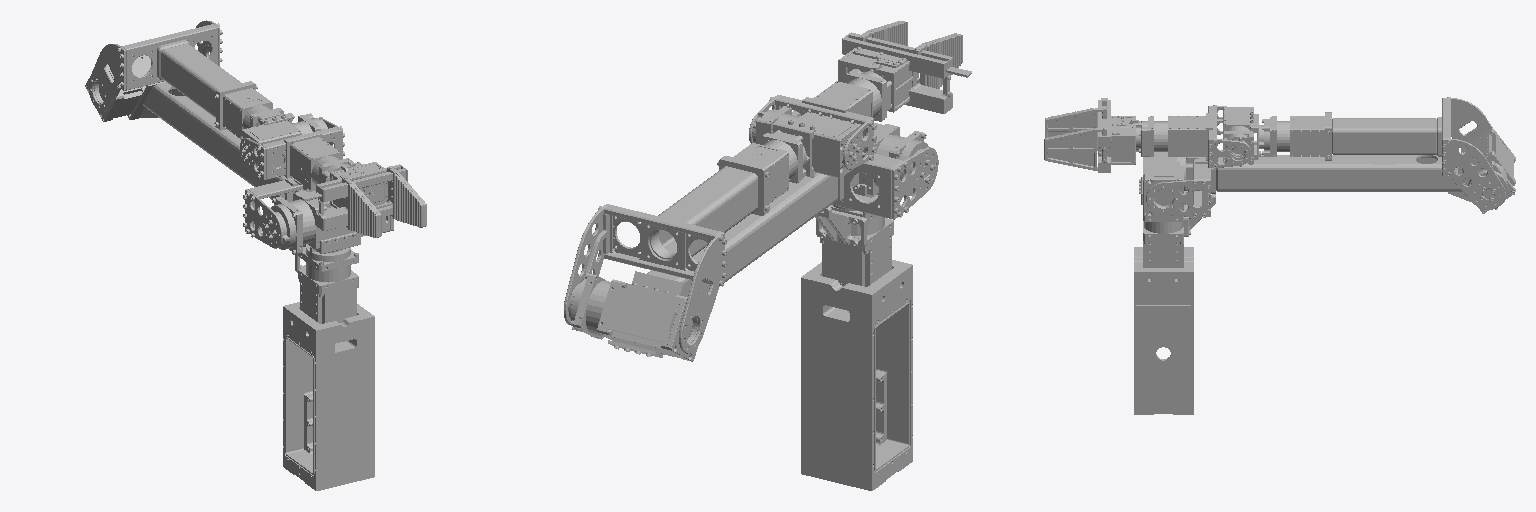
The robot description file, URDF, robot "lnt_urdf_description":
<robot
  name="lnt_urdf_description">
  <link
    name="base_link">
    <inertial>
      <origin
        xyz="0.040643979573491 0.0406419965644875 0.148760063652187"
        rpy="0 0 0" />
      <mass
        value="0.854155845147982" />
      <inertia
        ixx="0.0072097253379719"
        ixy="3.91661557279195E-07"
        ixz="8.32333709729228E-05"
        iyy="0.00710852611283595"
        iyz="-7.71172614028263E-05"
        izz="0.00103326398530037" />
    </inertial>
    <visual>
      <origin
        xyz="0 0 0"
        rpy="0 0 0" />
      <geometry>
        <mesh
          filename="package://lnt_urdf_description/meshes/base_link.STL" />
      </geometry>
      <material
        name="">
        <color
          rgba="0.752941176470588 0.752941176470588 0.752941176470588 1" />
      </material>
    </visual>
    <collision>
      <origin
        xyz="0 0 0"
        rpy="0 0 0" />
      <geometry>
        <mesh
          filename="package://lnt_urdf_description/meshes/base_link.STL" />
      </geometry>
    </collision>
  </link>
  <link
    name="link_1">
    <inertial>
      <origin
        xyz="4.90057691613643E-05 -0.00293063013815038 0.0290827578020298"
        rpy="0 0 0" />
      <mass
        value="0.377267733129056" />
      <inertia
        ixx="0.000641277937131854"
        ixy="-1.1478524551702E-07"
        ixz="5.79330746017939E-07"
        iyy="0.00019199703768203"
        iyz="6.07837956690088E-06"
        izz="0.000630748841506656" />
    </inertial>
    <visual>
      <origin
        xyz="0 0 0"
        rpy="0 0 0" />
      <geometry>
        <mesh
          filename="package://lnt_urdf_description/meshes/link_1.STL" />
      </geometry>
      <material
        name="">
        <color
          rgba="0.752941176470588 0.752941176470588 0.752941176470588 1" />
      </material>
    </visual>
    <collision>
      <origin
        xyz="0 0 0"
        rpy="0 0 0" />
      <geometry>
        <mesh
          filename="package://lnt_urdf_description/meshes/link_1.STL" />
      </geometry>
    </collision>
  </link>
  <joint
    name="joint1"
    type="revolute">
    <origin
      xyz="0.039875 0.040125 0.3045"
      rpy="-3.0787E-17 1.1753E-16 1.5708" />
    <parent
      link="base_link" />
    <child
      link="link_1" />
    <axis
      xyz="0 0 1" />
    <limit
      lower="-3.14"
      upper="3.14"
      effort="0"
      velocity="0" />
  </joint>
  <link
    name="link_2">
    <inertial>
      <origin
        xyz="0.311175688435593 -0.000520999176909009 0.00364100635169962"
        rpy="0 0 0" />
      <mass
        value="0.555909264188641" />
      <inertia
        ixx="0.000771033197074073"
        ixy="-2.35747155363053E-05"
        ixz="3.1553359897087E-05"
        iyy="0.0144365415438456"
        iyz="-1.35189943952058E-06"
        izz="0.0139570184140524" />
    </inertial>
    <visual>
      <origin
        xyz="0 0 0"
        rpy="0 0 0" />
      <geometry>
        <mesh
          filename="package://lnt_urdf_description/meshes/link_2.STL" />
      </geometry>
      <material
        name="">
        <color
          rgba="0.752941176470588 0.752941176470588 0.752941176470588 1" />
      </material>
    </visual>
    <collision>
      <origin
        xyz="0 0 0"
        rpy="0 0 0" />
      <geometry>
        <mesh
          filename="package://lnt_urdf_description/meshes/link_2.STL" />
      </geometry>
    </collision>
  </link>
  <joint
    name="joint2"
    type="revolute">
    <origin
      xyz="0 0 0.0305"
      rpy="-1.5708 0 4.3305E-16" />
    <parent
      link="link_1" />
    <child
      link="link_2" />
    <axis
      xyz="0 0 1" />
    <limit
      lower="-3.14"
      upper="0"
      effort="0"
      velocity="0" />
  </joint>
  <link
    name="link_3">
    <inertial>
      <origin
        xyz="-0.169474131534032 -0.0500512457629598 -0.00170509113305032"
        rpy="0 0 0" />
      <mass
        value="0.292706779888183" />
      <inertia
        ixx="0.000332555030455513"
        ixy="-0.000161514105326486"
        ixz="8.37410047316708E-05"
        iyy="0.00280358448042595"
        iyz="2.44320464003209E-05"
        izz="0.00267450897995474" />
    </inertial>
    <visual>
      <origin
        xyz="0 0 0"
        rpy="0 0 0" />
      <geometry>
        <mesh
          filename="package://lnt_urdf_description/meshes/link_3.STL" />
      </geometry>
      <material
        name="">
        <color
          rgba="0.752941176470588 0.752941176470588 0.752941176470588 1" />
      </material>
    </visual>
    <collision>
      <origin
        xyz="0 0 0"
        rpy="0 0 0" />
      <geometry>
        <mesh
          filename="package://lnt_urdf_description/meshes/link_3.STL" />
      </geometry>
    </collision>
  </link>
  <joint
    name="joint3"
    type="revolute">
    <origin
      xyz="0.43132 -0.0012844 0"
      rpy="-2.3411E-15 -4.0406E-15 1.0617E-29" />
    <parent
      link="link_2" />
    <child
      link="link_3" />
    <axis
      xyz="0 0 1" />
    <limit
      lower="0"
      upper="3.14159"
      effort="0"
      velocity="0" />
  </joint>
  <link
    name="link_4">
    <inertial>
      <origin
        xyz="-7.39902665310987E-05 0.00465167357643108 0.0389281580850401"
        rpy="0 0 0" />
      <mass
        value="0.159649260916991" />
      <inertia
        ixx="0.000133249401429536"
        ixy="-4.75917767767368E-08"
        ixz="-3.08921595105016E-07"
        iyy="5.32131244910627E-05"
        iyz="-1.80050439489608E-06"
        izz="0.000127949156669396" />
    </inertial>
    <visual>
      <origin
        xyz="0 0 0"
        rpy="0 0 0" />
      <geometry>
        <mesh
          filename="package://lnt_urdf_description/meshes/link_4.STL" />
      </geometry>
      <material
        name="">
        <color
          rgba="0.752941176470588 0.752941176470588 0.752941176470588 1" />
      </material>
    </visual>
    <collision>
      <origin
        xyz="0 0 0"
        rpy="0 0 0" />
      <geometry>
        <mesh
          filename="package://lnt_urdf_description/meshes/link_4.STL" />
      </geometry>
    </collision>
  </link>
  <joint
    name="joint4"
    type="revolute">
    <origin
      xyz="-0.2911 -0.05351 0"
      rpy="1.5708 2.6742E-15 -1.5708" />
    <parent
      link="link_3" />
    <child
      link="link_4" />
    <axis
      xyz="0 0 -1" />
    <limit
      lower="-2.09"
      upper="2.09"
      effort="0"
      velocity="0" />
  </joint>
  <link
    name="link_5">
    <inertial>
      <origin
        xyz="-0.0701915459000638 -0.00833031698142439 -0.00103030017205773"
        rpy="0 0 0" />
      <mass
        value="0.215222730814982" />
      <inertia
        ixx="0.000198557406368773"
        ixy="-4.6954389784777E-07"
        ixz="1.75539877526658E-05"
        iyy="0.000280999987740404"
        iyz="1.94581019886887E-06"
        izz="0.000307113755598205" />
    </inertial>
    <visual>
      <origin
        xyz="0 0 0"
        rpy="0 0 0" />
      <geometry>
        <mesh
          filename="package://lnt_urdf_description/meshes/link_5.STL" />
      </geometry>
      <material
        name="">
        <color
          rgba="0.752941176470588 0.752941176470588 0.752941176470588 1" />
      </material>
    </visual>
    <collision>
      <origin
        xyz="0 0 0"
        rpy="0 0 0" />
      <geometry>
        <mesh
          filename="package://lnt_urdf_description/meshes/link_5.STL" />
      </geometry>
    </collision>
  </link>
  <joint
    name="joint5"
    type="revolute">
    <origin
      xyz="0 0 0.041"
      rpy="1.5708 1.5708 0" />
    <parent
      link="link_4" />
    <child
      link="link_5" />
    <axis
      xyz="0 0 1" />
    <limit
      lower="-1.57"
      upper="1.57"
      effort="0"
      velocity="0" />
  </joint>
  <link
    name="link_6">
    <inertial>
      <origin
        xyz="-8.5916E-05 0.0062618 0.040557"
        rpy="0 0 0" />
      <mass
        value="0.1106" />
      <inertia
        ixx="9.9894E-05"
        ixy="-7.5261E-08"
        ixz="-1.3381E-07"
        iyy="4.9526E-05"
        iyz="6.8097E-06"
        izz="9.7012E-05" />
    </inertial>
    <visual>
      <origin
        xyz="0 0 0"
        rpy="0 0 0" />
      <geometry>
        <mesh
          filename="package://lnt_urdf_description/meshes/link_6.STL" />
      </geometry>
      <material
        name="">
        <color
          rgba="0.75294 0.75294 0.75294 1" />
      </material>
    </visual>
    <collision>
      <origin
        xyz="0 0 0"
        rpy="0 0 0" />
      <geometry>
        <mesh
          filename="package://lnt_urdf_description/meshes/link_6.STL" />
      </geometry>
    </collision>
  </link>
  <joint
    name="joint6"
    type="revolute">
    <origin
      xyz="-0.122 0 0"
      rpy="1.5708 -1.1102E-16 -1.5708" />
    <parent
      link="link_5" />
    <child
      link="link_6" />
    <axis
      xyz="0 0 -1" />
    <limit
      lower="-3.14"
      upper="3.14"
      effort="0"
      velocity="0" />
  </joint>
  <link
    name="left_grip_link">
    <inertial>
      <origin
        xyz="0.04463 -0.0018364 0.0066327"
        rpy="0 0 0" />
      <mass
        value="0.018543" />
      <inertia
        ixx="6.2622E-06"
        ixy="1.1538E-06"
        ixz="-1.5186E-06"
        iyy="1.2434E-05"
        iyz="6.7138E-07"
        izz="1.5288E-05" />
    </inertial>
    <visual>
      <origin
        xyz="0 0 0"
        rpy="0 0 0" />
      <geometry>
        <mesh
          filename="package://lnt_urdf_description/meshes/left_grip_link.STL" />
      </geometry>
      <material
        name="">
        <color
          rgba="0.75294 0.75294 0.75294 1" />
      </material>
    </visual>
    <collision>
      <origin
        xyz="0 0 0"
        rpy="0 0 0" />
      <geometry>
        <mesh
          filename="package://lnt_urdf_description/meshes/left_grip_link.STL" />
      </geometry>
    </collision>
  </link>
  <joint
    name="left_grip_joint"
    type="prismatic">
    <origin
      xyz="-0.00038798 -0.0193 0.1357"
      rpy="1.5708 1.5708 0" />
    <parent
      link="link_6" />
    <child
      link="left_grip_link" />
    <axis
      xyz="0 0 1" />
    <limit
      lower="0"
      upper="0"
      effort="0"
      velocity="0" />
  </joint>
  <link
    name="right_grip_link">
    <inertial>
      <origin
        xyz="0.00183644059394827 0.044630390849177 0.00663270264104446"
        rpy="0 0 0" />
      <mass
        value="0.0185428410821074" />
      <inertia
        ixx="1.24340447117038E-05"
        ixy="-1.15375995016126E-06"
        ixz="-6.7137649268847E-07"
        iyy="6.26215242543191E-06"
        iyz="-1.51856815875631E-06"
        izz="1.52881217067195E-05" />
    </inertial>
    <visual>
      <origin
        xyz="0 0 0"
        rpy="0 0 0" />
      <geometry>
        <mesh
          filename="package://lnt_urdf_description/meshes/right_grip_link.STL" />
      </geometry>
      <material
        name="">
        <color
          rgba="0.752941176470588 0.752941176470588 0.752941176470588 1" />
      </material>
    </visual>
    <collision>
      <origin
        xyz="0 0 0"
        rpy="0 0 0" />
      <geometry>
        <mesh
          filename="package://lnt_urdf_description/meshes/right_grip_link.STL" />
      </geometry>
    </collision>
  </link>
  <joint
    name="right_grip_joint"
    type="prismatic">
    <origin
      xyz="0.00038798 0.0423 0.1358"
      rpy="-1.5708 1.1403E-16 -3.1416" />
    <parent
      link="link_6" />
    <child
      link="right_grip_link" />
    <axis
      xyz="0 0 -1" />
    <limit
      lower="0"
      upper="0"
      effort="0"
      velocity="0" />
  </joint>
</robot>

--- What the picture shows (computed from the rendered views, not written in the file) ---
The picture shows the robot from 3 angles, left to right: view 1: azimuth 30°, elevation 25°; view 2: azimuth 150°, elevation 25°; view 3: azimuth 270°, elevation 25°; orthographic projection.
Model lnt_urdf_description with 9 links and 8 joints (6 revolute, 2 prismatic), rooted at base_link, posed every joint at zero.
Visible links, largest first — view 1: base_link, link_3, link_2, link_5, link_1, link_6, link_4, left_grip_link, right_grip_link; view 2: base_link, link_2, link_3, link_6, link_5, link_4, link_1, left_grip_link, right_grip_link; view 3: link_2, base_link, link_3, link_5, link_6, right_grip_link, link_1, link_4, left_grip_link.
Boxes of the visible links, x1=… form: base_link: x1=283, y1=244, x2=374, y2=490; link_3: x1=89, y1=20, x2=283, y2=138; link_2: x1=85, y1=55, x2=363, y2=248; link_5: x1=240, y1=119, x2=355, y2=192; link_1: x1=271, y1=191, x2=393, y2=254; link_6: x1=316, y1=162, x2=407, y2=230; link_4: x1=241, y1=113, x2=329, y2=170; left_grip_link: x1=300, y1=176, x2=381, y2=237; right_grip_link: x1=359, y1=166, x2=426, y2=227; base_link: x1=801, y1=193, x2=912, y2=490; link_2: x1=568, y1=147, x2=938, y2=361; link_3: x1=564, y1=130, x2=809, y2=353; link_6: x1=838, y1=32, x2=952, y2=113; link_5: x1=749, y1=69, x2=891, y2=187; link_4: x1=752, y1=106, x2=861, y2=177; link_1: x1=792, y1=111, x2=928, y2=206; left_grip_link: x1=913, y1=33, x2=971, y2=88; right_grip_link: x1=858, y1=21, x2=907, y2=45; link_2: x1=1146, y1=129, x2=1515, y2=217; base_link: x1=1134, y1=194, x2=1215, y2=414; link_3: x1=1259, y1=97, x2=1505, y2=209; link_5: x1=1136, y1=105, x2=1250, y2=190; link_6: x1=1098, y1=100, x2=1138, y2=172; right_grip_link: x1=1044, y1=119, x2=1106, y2=170; link_1: x1=1139, y1=152, x2=1187, y2=215; link_4: x1=1223, y1=107, x2=1263, y2=166; left_grip_link: x1=1045, y1=98, x2=1107, y2=150.
Size in the robot's own frame: 0.1621 by 0.6264 by 0.4221 metres.
Meshes: 9 distinct files referenced, 9 mesh visuals loaded (9 binary STL).